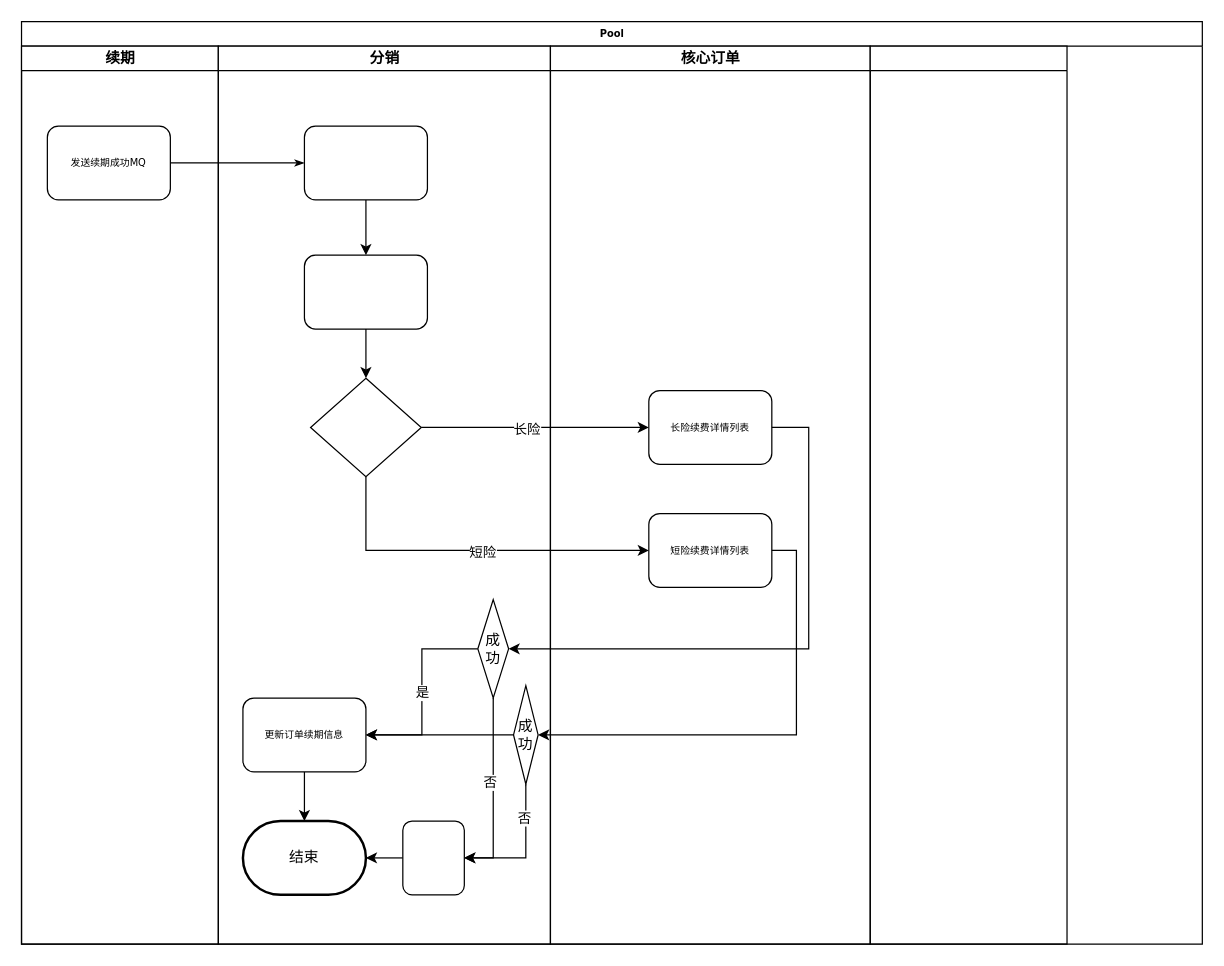
Some shapes in this 1224 by 966 pixel diagram are drawn without their labels. Each missing label, with the centre of its shape:
Lane 5: point (968, 494)
消费MQ: point (365, 162)
获取续费信息: point (365, 291)
记录error: point (433, 857)
长短险: point (365, 427)
